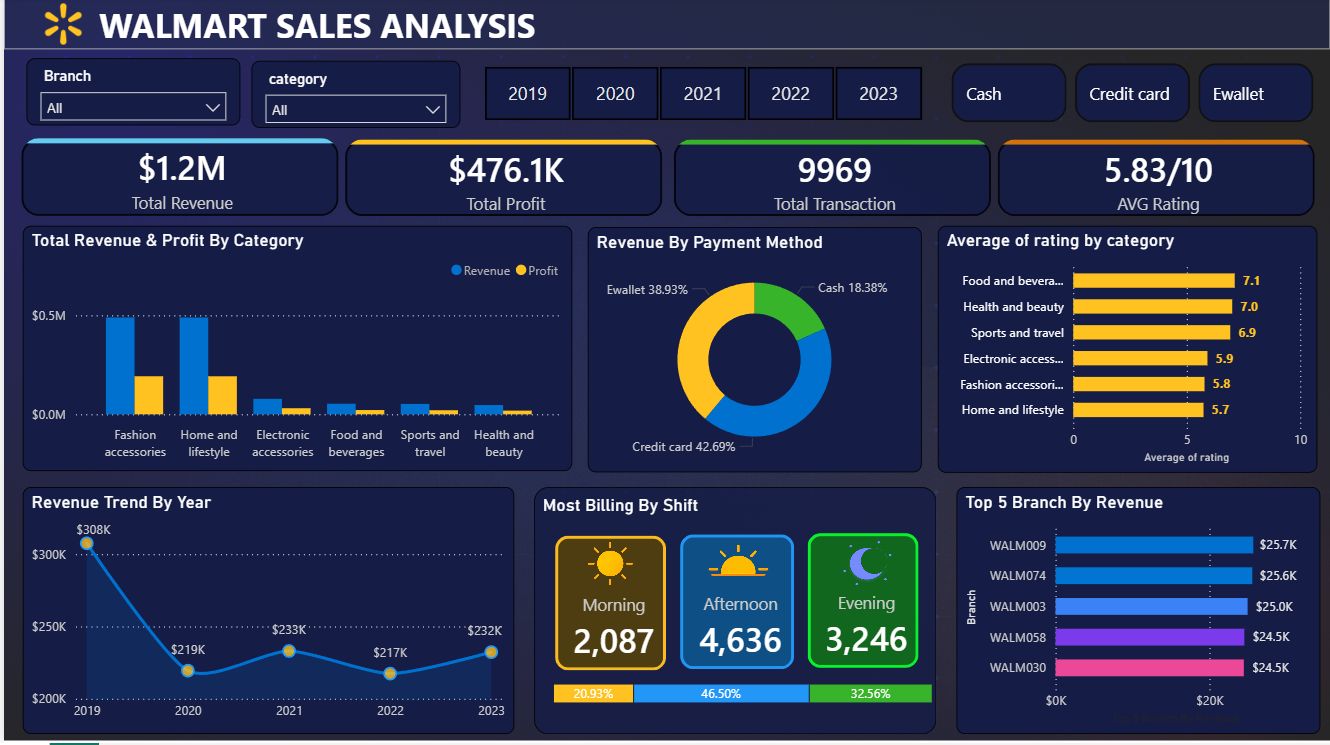

The page's visual inventory and layout, read from the dashboard file:
{"tool":"powerbi","page":{"name":"Page 1","canvas":[1280,720],"ordinal":0},"visuals":[{"type":"shape","box":[511.8,473.4,388.3,238.8],"z":0},{"type":"shape","box":[0,0,1280.3,50.8],"z":1000},{"type":"textbox","box":[86.4,0,455.6,59],"z":2000},{"type":"image","box":[17.8,5.5,75.5,39.8],"z":3000},{"type":"cardVisual","fields":{"Data":["clean_walmart.Total_Revenue"]},"box":[0,119.4,337.6,109.8],"z":4000},{"type":"cardVisual","fields":{"Data":["clean_walmart.Total_Profit"]},"box":[312.9,120.8,337.6,108.4],"z":5000},{"type":"cardVisual","fields":{"Data":["clean_walmart.Total_Transactioon"]},"box":[629.8,120.8,337.6,108.4],"z":6000},{"type":"cardVisual","fields":{"Data":["clean_walmart.AVG Rating"]},"box":[942.4,120.8,337.6,108.4],"z":7000},{"type":"clusteredColumnChart","title":"Total Revenue & Profit By Category","fields":{"Category":["clean_walmart.category"],"Y":["clean_walmart.Total_Revenue","clean_walmart.Total_Profit"]},"box":[17.8,220.7,530.6,237.2],"z":8000},{"type":"donutChart","title":"Revenue By Payment Method","fields":{"Series":["clean_walmart.payment_method"],"Y":["clean_walmart.Total_Transaction"]},"box":[563.5,222.1,322.2,237.2],"z":9000},{"type":"clusteredBarChart","title":"Top 5 Branch By Revenue","fields":{"Y":["clean_walmart.Total_Revenue"],"Category":["clean_walmart.Branch"]},"box":[919.4,473.4,351.3,238.8],"z":10000},{"type":"clusteredBarChart","fields":{"Category":["clean_walmart.category"],"Y":["Avg(clean_walmart.rating)"]},"box":[900.8,220.7,366.1,238.6],"z":11000},{"type":"cardVisual","fields":{"Data":["Shift.Morning Bills"]},"box":[514.6,503.6,141.3,164.7],"z":12000},{"type":"cardVisual","fields":{"Data":["Shift.Afternoon Biling"]},"box":[635.3,502.2,144.1,164.7],"z":13000},{"type":"cardVisual","fields":{"Data":["Shift.Evening Billing"]},"box":[758.8,500.9,141.3,164.7],"z":14000},{"type":"textbox","box":[514.6,474.8,164.7,30.2],"z":15000},{"type":"hundredPercentStackedBarChart","fields":{"Y":["Shift.Morning Bills","Shift.Afternoon Biling","Shift.Evening Billing"]},"box":[525.6,618.9,374.6,101.5],"z":16000},{"type":"lineChart","title":"Revenue Trend By Year","fields":{"Category":["clean_walmart.Year"],"Y":["clean_walmart.Total_Revenue"]},"box":[17.8,473,474.4,238.6],"z":17000},{"type":"slicer","fields":{"Values":["clean_walmart.Branch"]},"box":[21.7,59.1,206.3,65.1],"z":18000},{"type":"slicer","fields":{"Values":["clean_walmart.category"]},"box":[238.9,61.5,201.5,65.1],"z":19000},{"type":"slicer","fields":{"Values":["clean_walmart.Year"]},"box":[437.9,60.3,471.7,65.1],"z":20000},{"type":"advancedSlicerVisual","fields":{"Values":["clean_walmart.payment_method"]},"box":[909.7,59.1,360.7,67.6],"z":21000},{"type":"image","box":[528.4,489.8,113.4,118.2],"z":21001},{"type":"image","box":[645.4,485,113.4,129.1],"z":21002},{"type":"image","box":[783,492.2,106.2,117],"z":21003}]}

Visuals, with their boxes in screenshot pixels (x1, y1, x2, y2), scaled from the page's 1280x720 canvas onto the 1330x745 screenshot:
shape: region(532, 490, 935, 737)
shape: region(0, 0, 1329, 53)
textbox: region(90, 0, 563, 61)
image: region(18, 6, 97, 47)
cardVisual - clean_walmart.Total_Revenue: region(0, 124, 351, 237)
cardVisual - clean_walmart.Total_Profit: region(325, 125, 676, 237)
cardVisual - clean_walmart.Total_Transactioon: region(654, 125, 1005, 237)
cardVisual - clean_walmart.AVG Rating: region(979, 125, 1329, 237)
"Total Revenue & Profit By Category" clusteredColumnChart: region(18, 228, 570, 474)
"Revenue By Payment Method" donutChart: region(586, 230, 920, 475)
"Top 5 Branch By Revenue" clusteredBarChart: region(955, 490, 1320, 737)
clusteredBarChart - clean_walmart.category x Avg(clean_walmart.rating): region(936, 228, 1316, 475)
cardVisual - Shift.Morning Bills: region(535, 521, 682, 692)
cardVisual - Shift.Afternoon Biling: region(660, 520, 810, 690)
cardVisual - Shift.Evening Billing: region(788, 518, 935, 689)
textbox: region(535, 491, 706, 523)
hundredPercentStackedBarChart - Shift.Morning Bills x Shift.Afternoon Biling: region(546, 640, 935, 744)
"Revenue Trend By Year" lineChart: region(18, 489, 511, 736)
slicer - clean_walmart.Branch: region(23, 61, 237, 129)
slicer - clean_walmart.category: region(248, 64, 458, 131)
slicer - clean_walmart.Year: region(455, 62, 945, 130)
advancedSlicerVisual - clean_walmart.payment_method: region(945, 61, 1320, 131)
image: region(549, 507, 667, 629)
image: region(671, 502, 788, 635)
image: region(814, 509, 924, 630)
